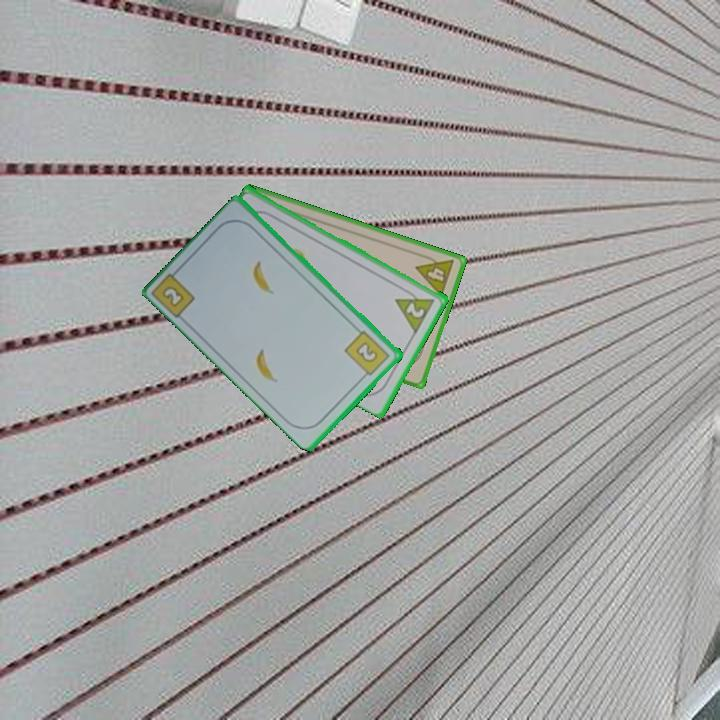2b: (341, 327, 393, 382), (159, 282, 188, 310)
2p: (392, 283, 439, 335)
4p: (412, 250, 457, 300)
